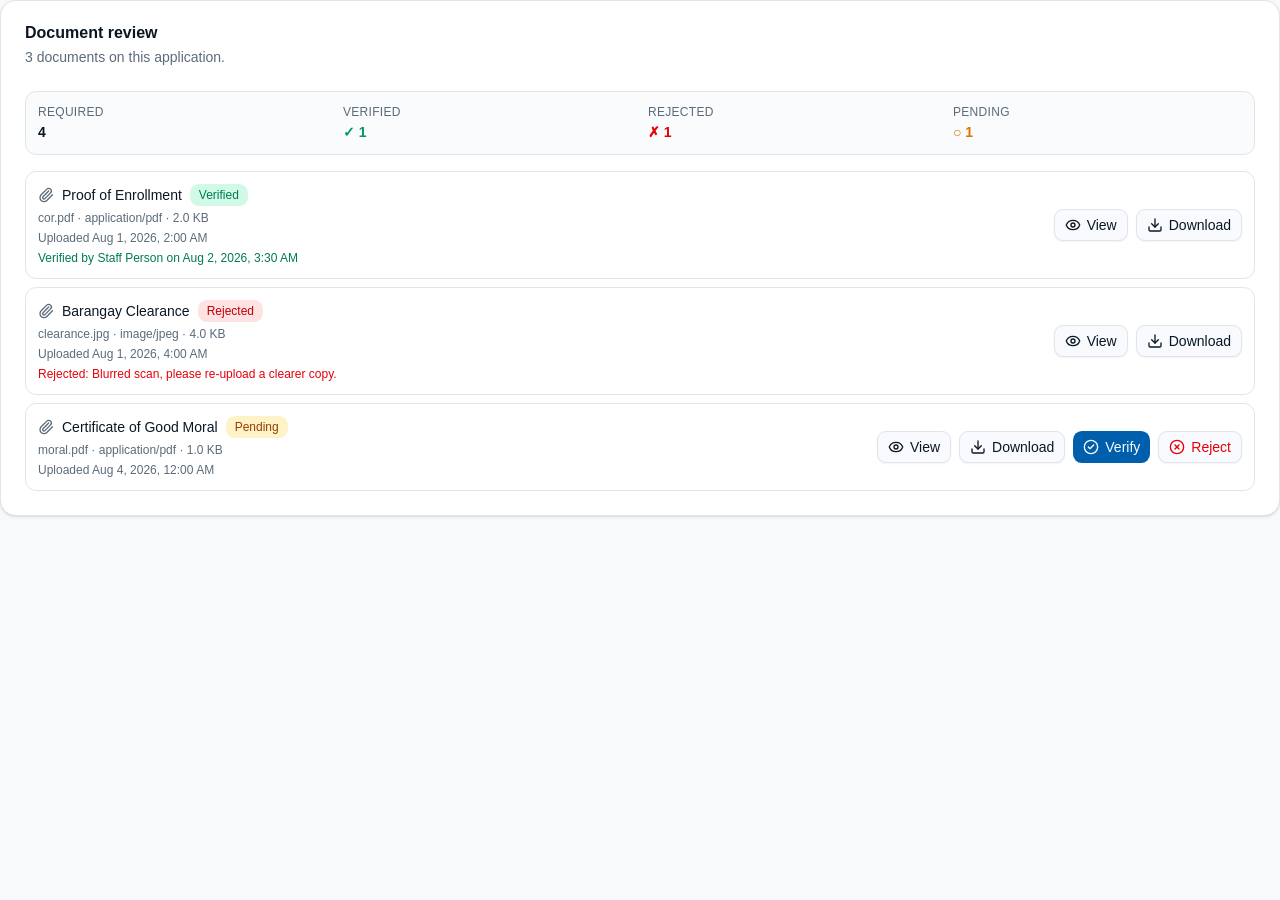
DocumentReview › reject flow › blocks submission without a reason
Click the button "Reject": point(1200, 447) top-left (1158, 431), bottom-right (1242, 463)
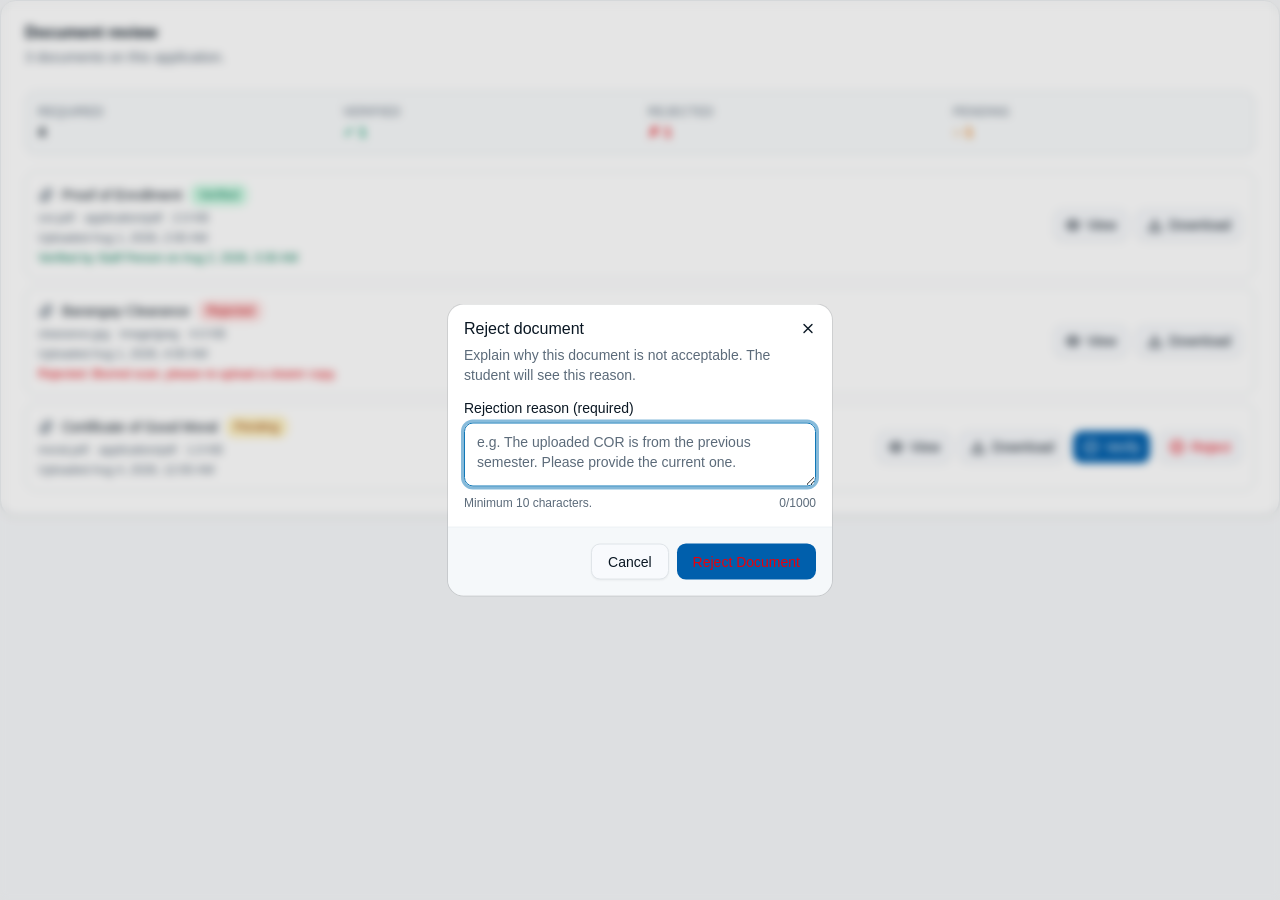
Check: the heading "Reject document" is shown, box top-left (464, 320), bottom-right (584, 336)
Click the button "Reject Document": point(746, 562) top-left (677, 544), bottom-right (816, 580)
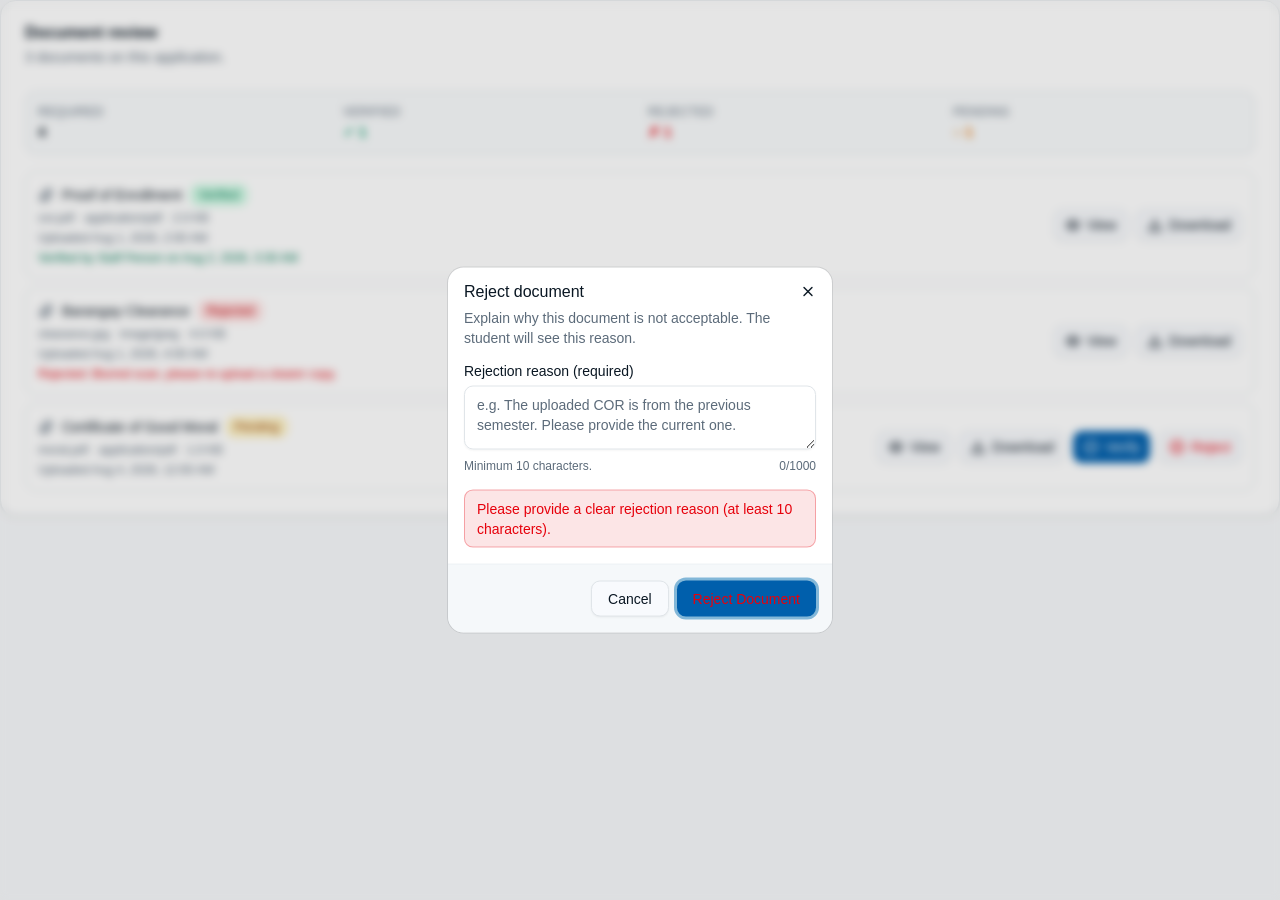
Check: the dialog is shown, box top-left (448, 268), bottom-right (832, 632)
Check: the message shows "Please provide a clear rejection reason", box top-left (477, 500), bottom-right (792, 536)
